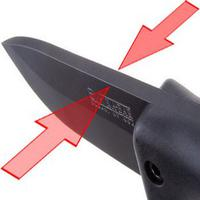knife: (2, 33, 200, 176)
